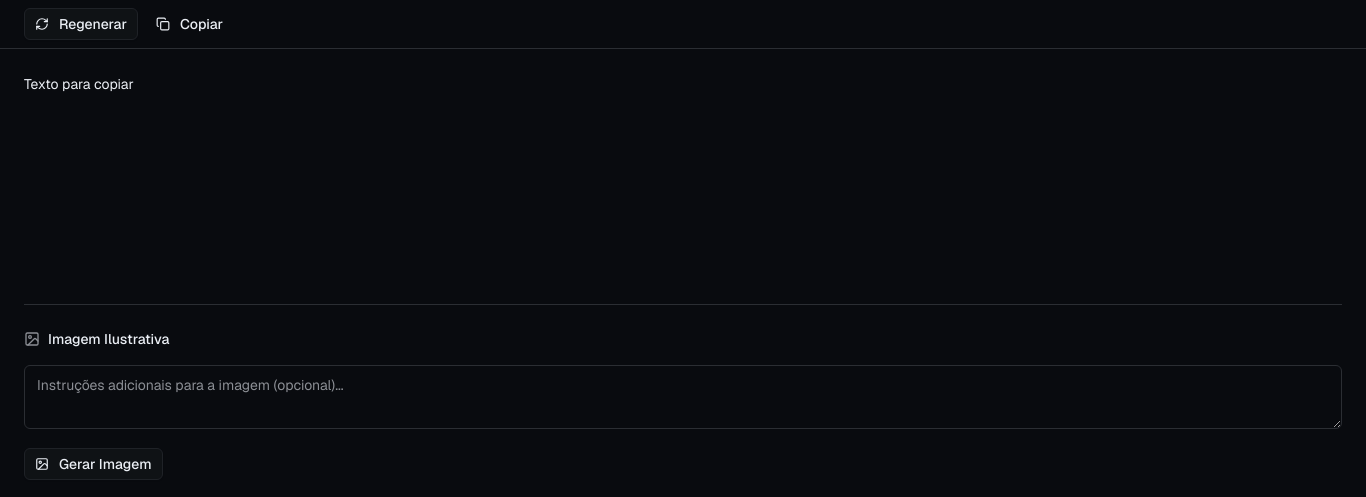
Test: NewsSocialPhase › copies text to clipboard and shows feedback
Click the button with test id "copy-social-button": (190, 24) [146, 8, 233, 40]
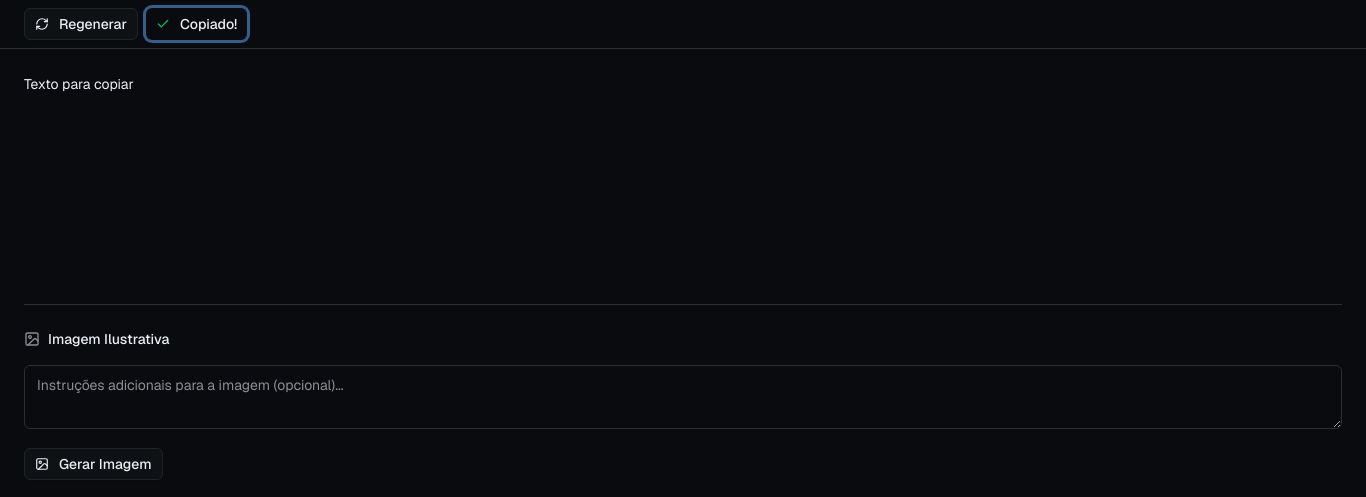
Check: the button "Copiado!" is shown, box [146, 8, 247, 40]
